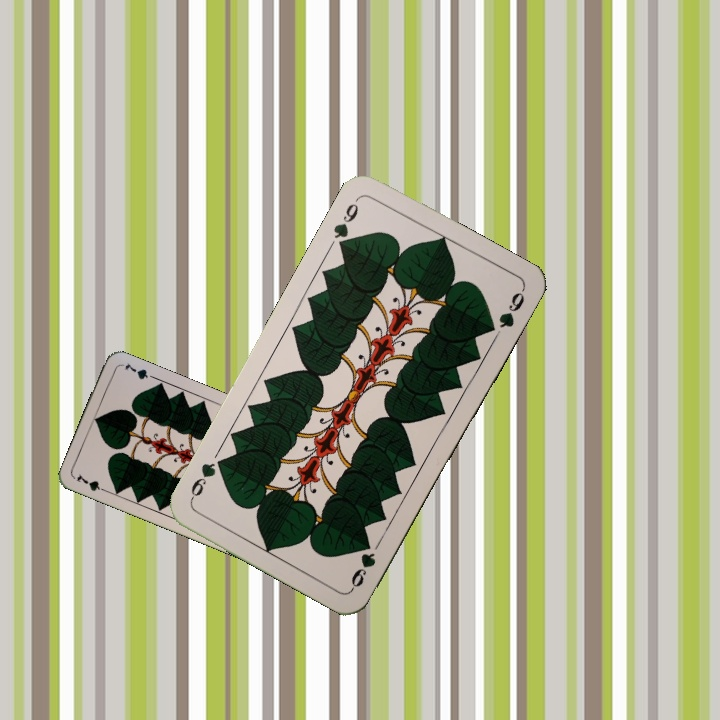G7: (72, 470, 111, 495)
G9: (329, 194, 361, 253), (346, 549, 378, 592)
